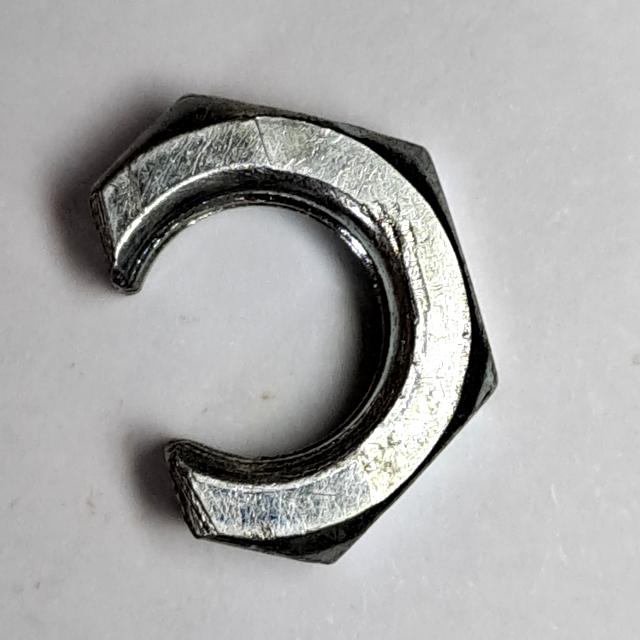Fracture: (76, 85, 508, 576)
